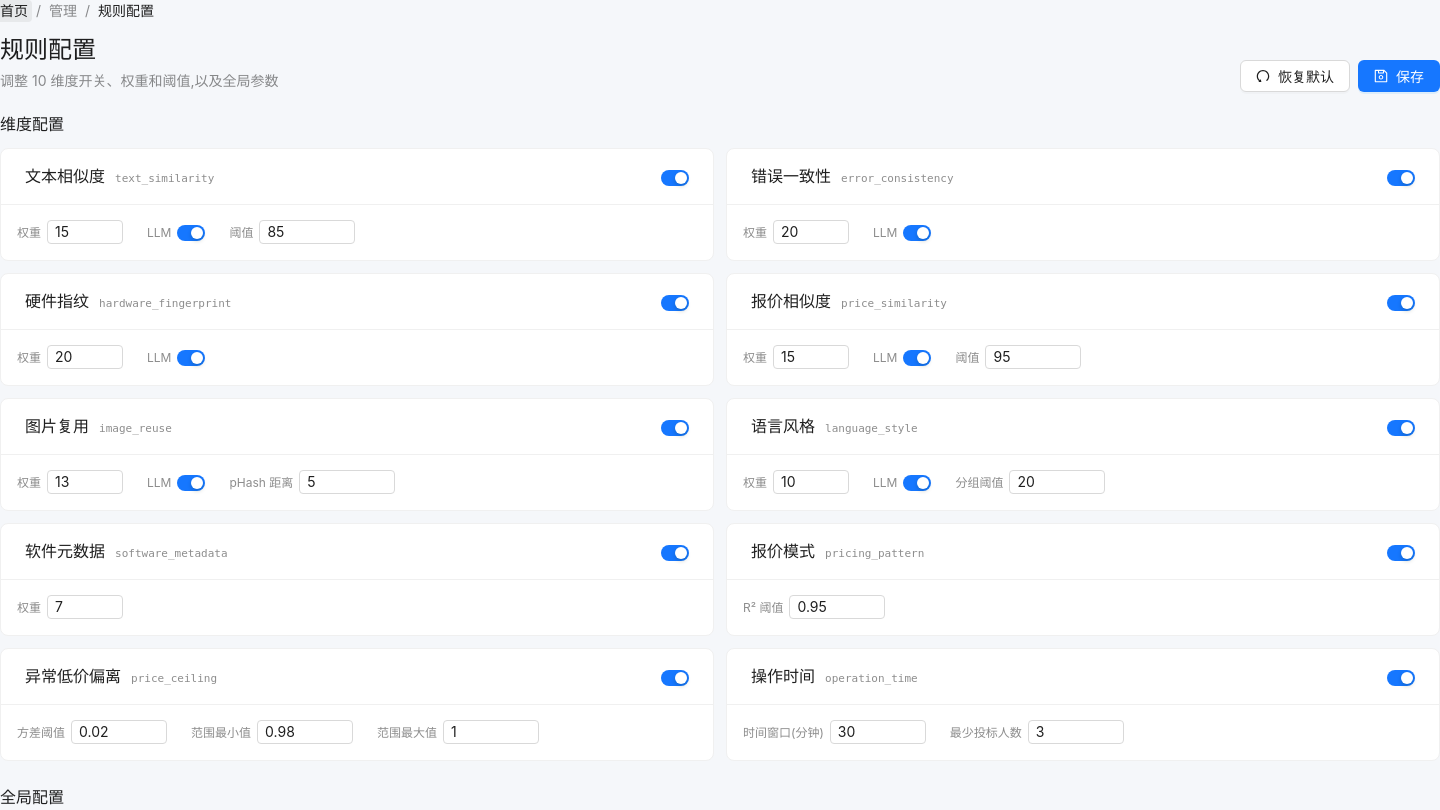
保存成功
Click the button with test id "save-btn": (1399, 76) top-left (1358, 60), bottom-right (1439, 92)
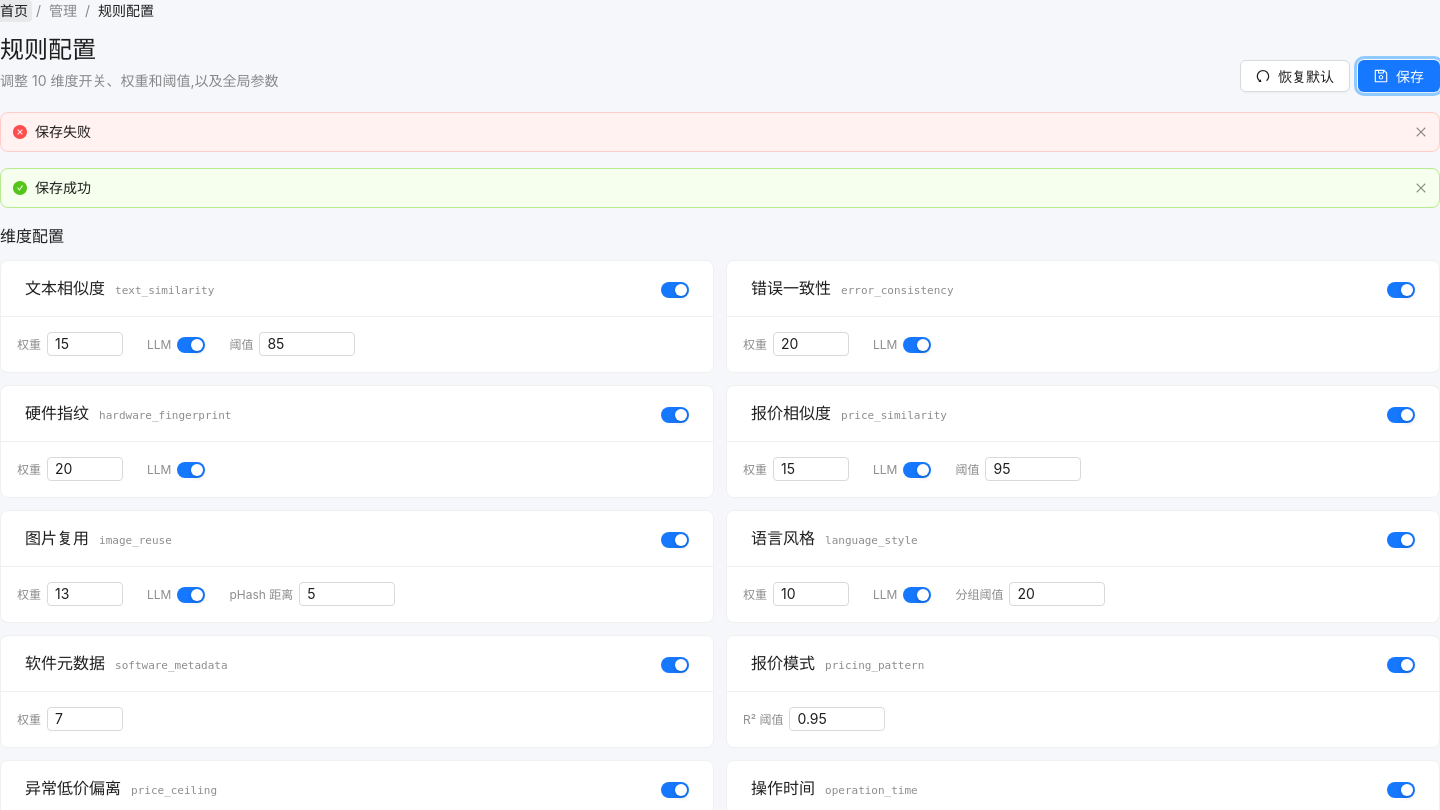
Result: the message with test id "success-msg" reads "保存成功" at top-left (35, 179), bottom-right (91, 196)
